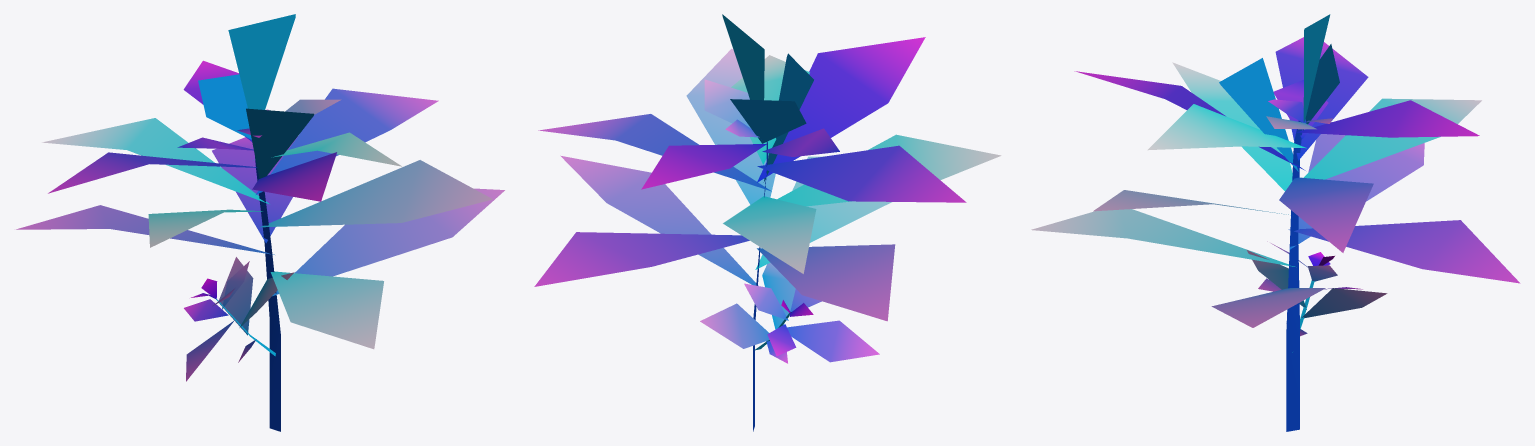
The model's file is xefmcgrqx_VarC_LOD2.fbx.
3 views of the same model, side by side, from view 1: azimuth 30°, elevation 25°; view 2: azimuth 150°, elevation 25°; view 3: azimuth 270°, elevation 25° (orthographic). The views are drawn at different scales.
Parts seen in each view (by area): view 1: _qk1f_VarC_LOD5; view 2: _qk1f_VarC_LOD5; view 3: _qk1f_VarC_LOD5.
Boxes of the visible parts, left/top/right/bottom form: _qk1f_VarC_LOD5: left=16, top=14, right=504, bottom=431; _qk1f_VarC_LOD5: left=534, top=14, right=1001, bottom=431; _qk1f_VarC_LOD5: left=1031, top=14, right=1520, bottom=431.
Bounding box in the file's own units: 50.2 × 45.35 × 48.57.
